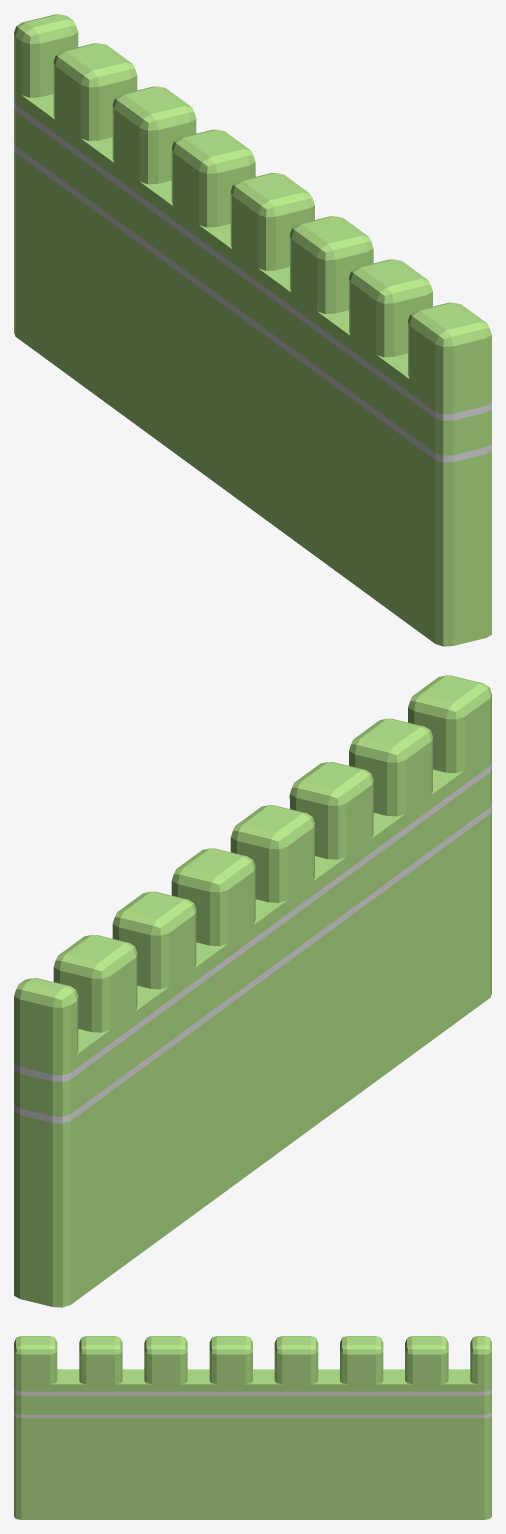
File: fence.fbx
3 renders of one model, top to bottom at view 1: azimuth 30°, elevation 25°; view 2: azimuth 150°, elevation 25°; view 3: azimuth 270°, elevation 25°, orthographic. The views are drawn at different scales.
Visible parts, largest first — view 1: Cube; view 2: Cube; view 3: Cube.
Boxes of the visible parts, left/top/right/bottom form: Cube: left=14, top=14, right=491, bottom=646; Cube: left=14, top=675, right=491, bottom=1307; Cube: left=14, top=1336, right=491, bottom=1519.
Bounding box in the file's own units: 44.23 × 238 × 600.
